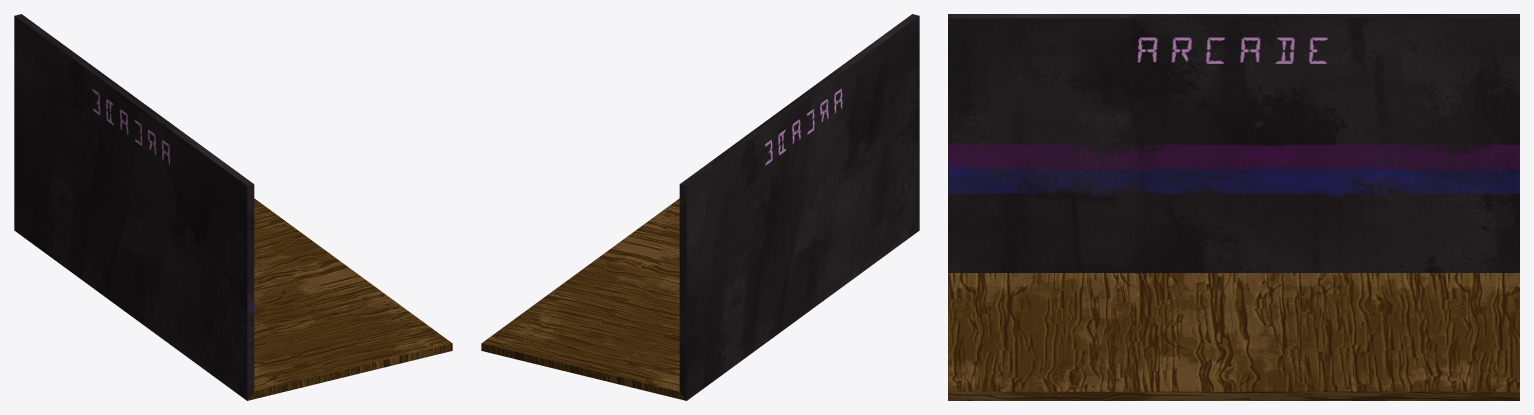
The model's file is sciana.fbx.
The picture shows the model from 3 angles, left to right: view 1: azimuth 30°, elevation 25°; view 2: azimuth 150°, elevation 25°; view 3: azimuth 270°, elevation 25°; orthographic projection. The views are drawn at different scales.
Visible parts, largest first — view 1: Cube.001; view 2: Cube.001; view 3: Cube.001.
Part boxes in pixels (bbox=[...]): Cube.001: bbox=[14, 14, 452, 400]; Cube.001: bbox=[481, 14, 919, 400]; Cube.001: bbox=[948, 14, 1519, 400].
Bounding box in the file's own units: 244 × 244 × 479.
1 material, 1 textured.
